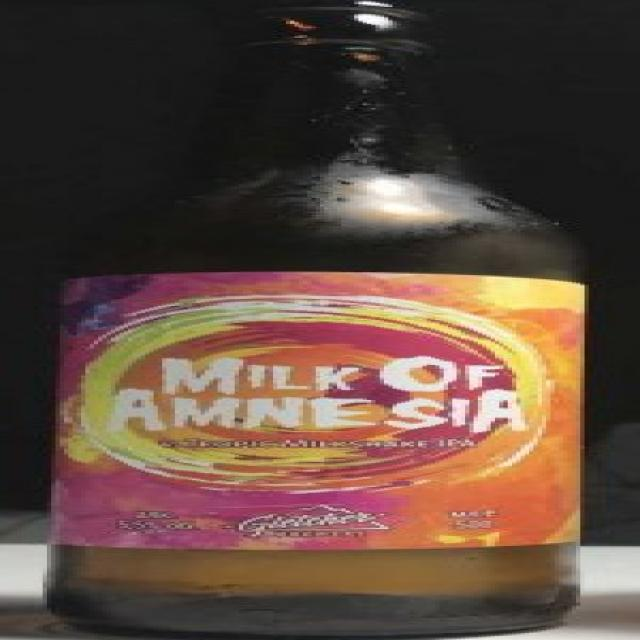Gletcher Milk of Amnesia: (4, 0, 640, 640)
